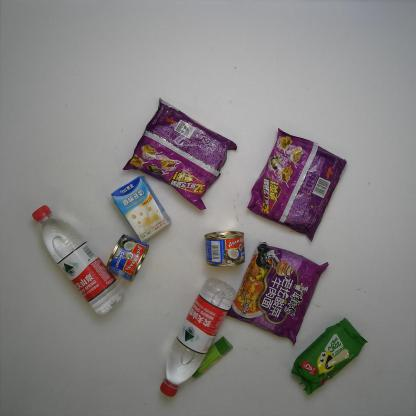Canned Food: (102, 230, 151, 284), (203, 226, 251, 270)
Dessert: (288, 314, 371, 396)
Drink: (27, 202, 130, 320), (156, 275, 235, 402)
Instant Noodles: (121, 95, 242, 212), (246, 124, 348, 244), (225, 240, 333, 346)
Milk: (104, 172, 173, 245)
Stationery: (189, 335, 234, 383)
